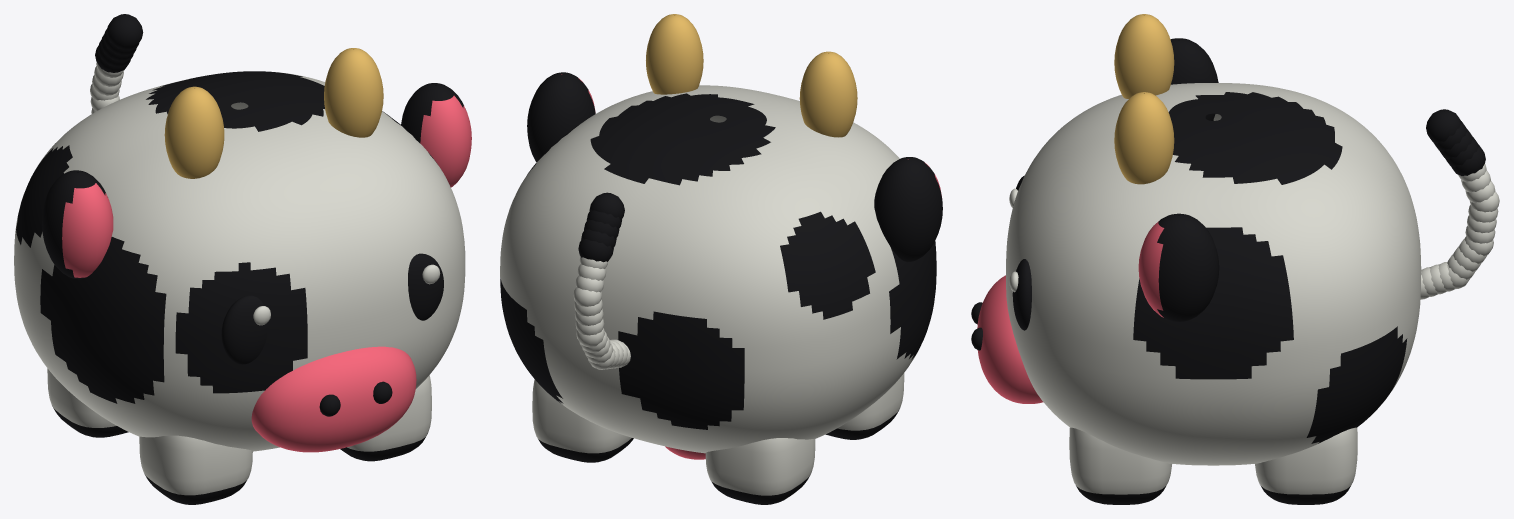
The model's file is sapi_bulat.fbx.
3 views of the same model, side by side, from view 1: azimuth 30°, elevation 25°; view 2: azimuth 150°, elevation 25°; view 3: azimuth 270°, elevation 25° (orthographic). The views are drawn at different scales.
Visible parts, largest first — view 1: Cow; view 2: Cow; view 3: Cow.
Part boxes in pixels (box(x1,y1,x2,y2)): Cow: box(14, 14, 471, 504); Cow: box(500, 14, 942, 504); Cow: box(971, 14, 1499, 504).
Size of the model in its own units: 4.2 by 3.8 by 4.58.
